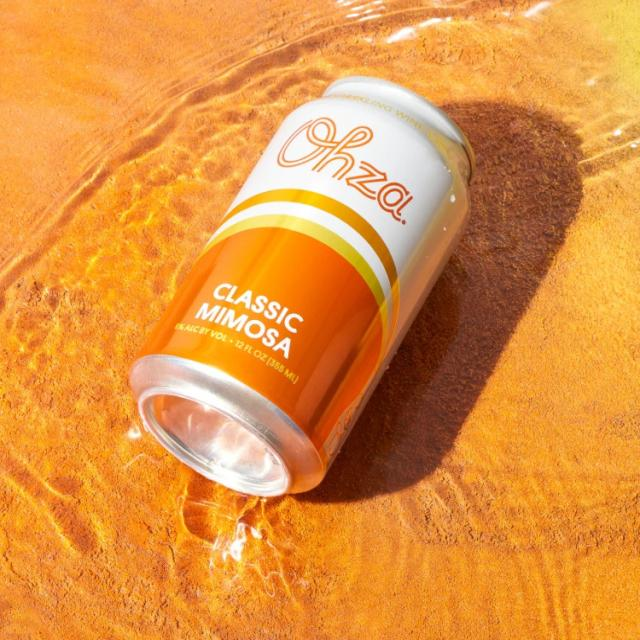can: (127, 73, 480, 498)
